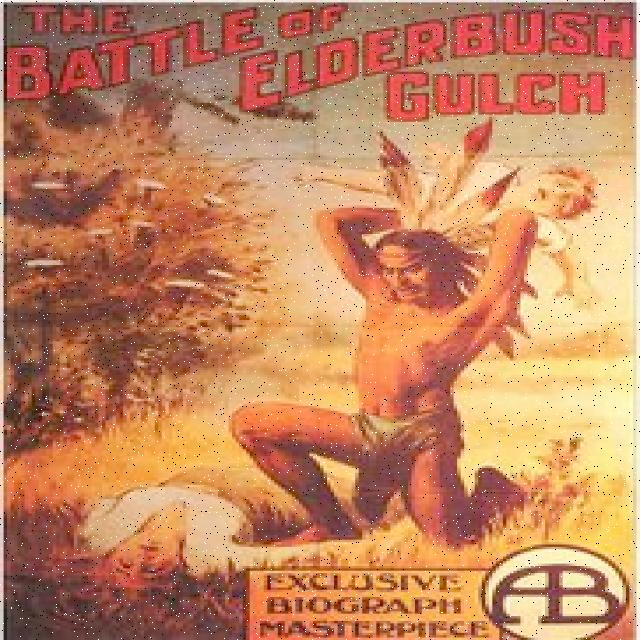movie-judul: (4, 5, 638, 120)
picture: (232, 123, 588, 543)
